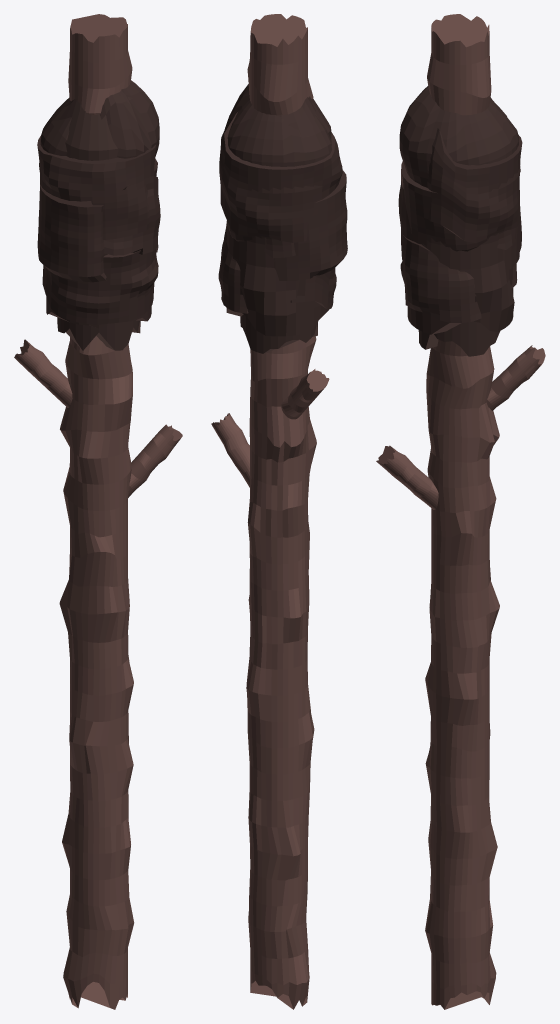
File: Torch1.fbx
3 views of the same model, side by side, from view 1: azimuth 90°, elevation 25°; view 2: azimuth 210°, elevation 25°; view 3: azimuth 270°, elevation 25° (orthographic).
Parts seen in each view (by area): view 1: Torch1; view 2: Torch1; view 3: Torch1.
Part boxes in pixels (x1,y1,x2,y2): Torch1: (14, 14, 182, 1009); Torch1: (211, 14, 347, 1009); Torch1: (376, 14, 545, 1009).
Size of the model in its own units: 450 by 3700 by 580.
